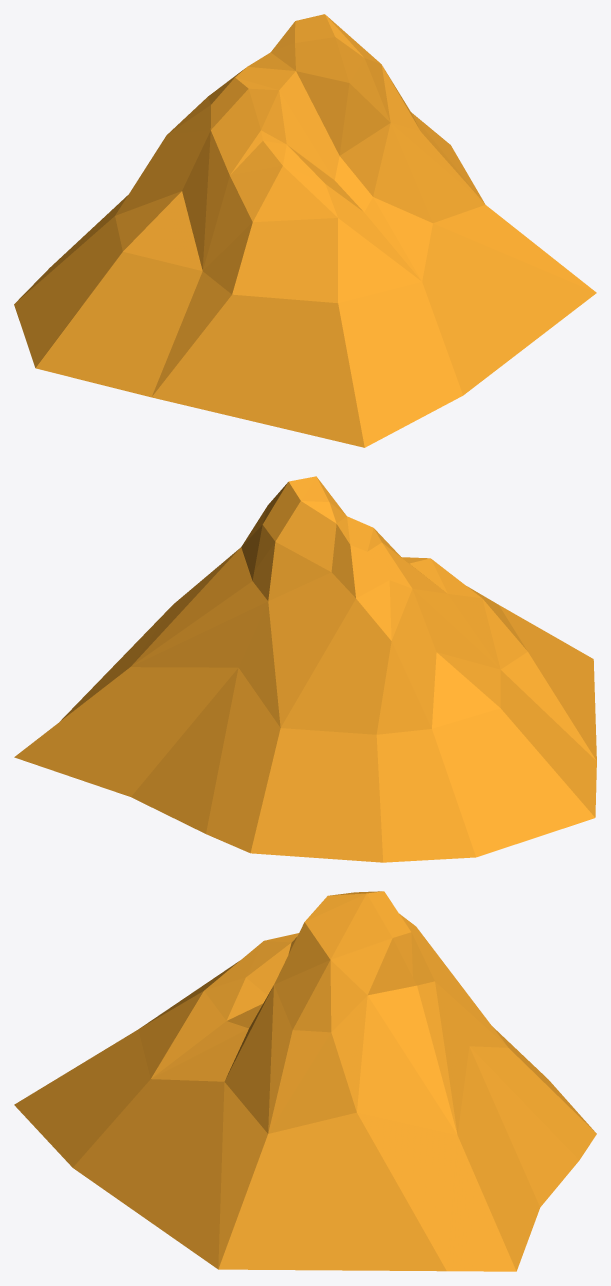
The model's file is SM_Pile_Snow_A.fbx.
3 renders of one model, top to bottom at view 1: azimuth 30°, elevation 25°; view 2: azimuth 150°, elevation 25°; view 3: azimuth 270°, elevation 25°, orthographic. The views are drawn at different scales.
Parts seen in each view (by area): view 1: pile-snow-a; view 2: pile-snow-a; view 3: pile-snow-a.
Boxes of the visible parts, box(x1,y1,x2,y2) form: pile-snow-a: box(14, 14, 596, 447); pile-snow-a: box(14, 476, 596, 862); pile-snow-a: box(14, 891, 596, 1271).
Bounding box in the file's own units: 2.07 × 1.08 × 2.05.
